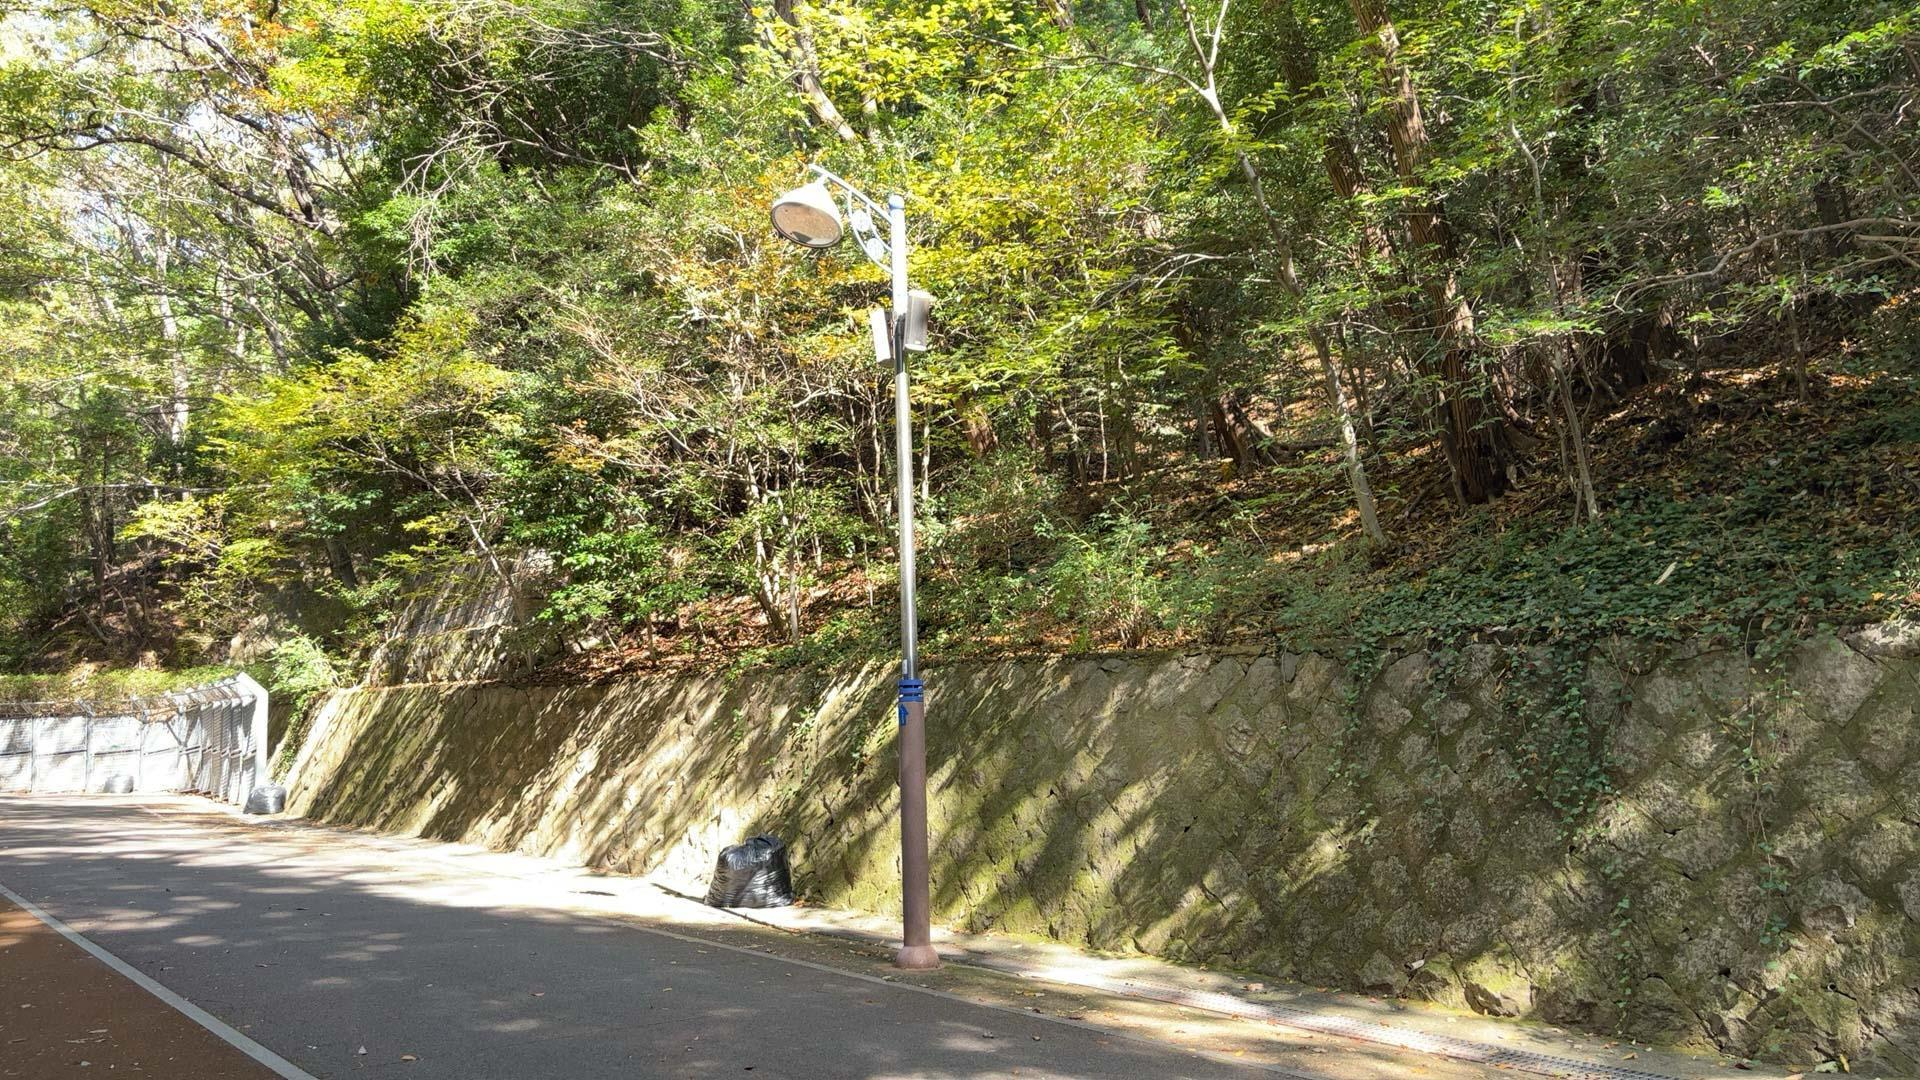black_bag: (698, 831, 802, 910)
